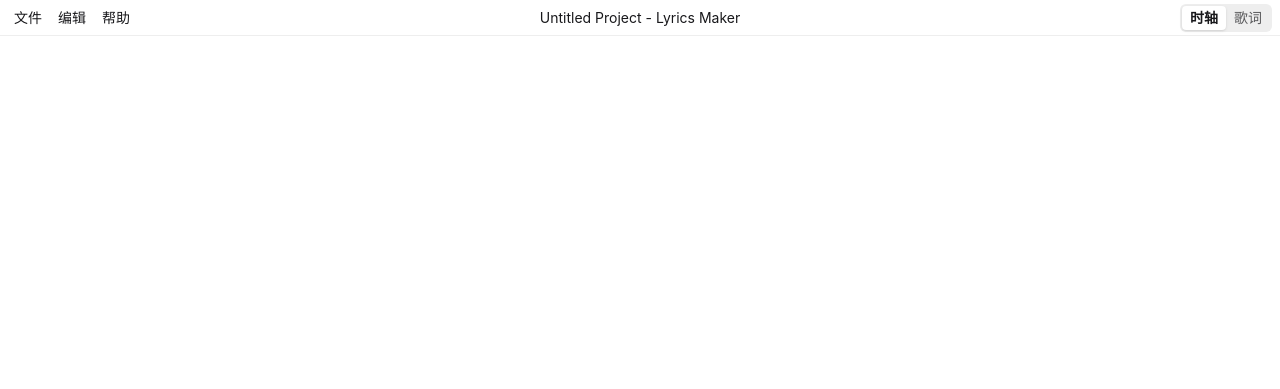
Test: menuBar › offers every supported lyric export target from a nested file menu
Click the button with test id "menu-trigger-file".
click(28, 18)  # box [8,6,48,30]
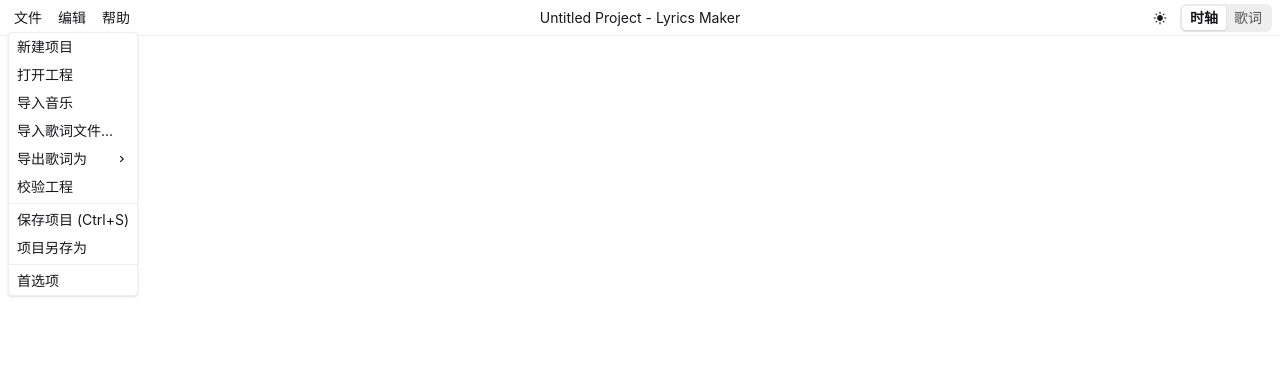
Hover over the menu item with test id "menu-export-lyrics".
mouse_move(73, 158)  # box [9,144,137,172]
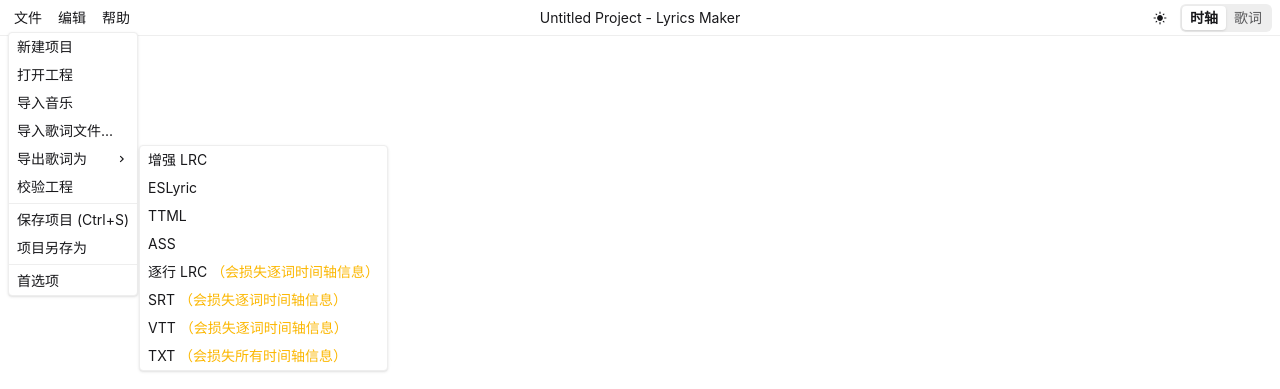
expect the menu with test id "menu-popup-export-lyrics" is shown: met, box [139,144,388,370]
expect the menu item with test id "menu-export-lyrics-txt" is shown: met, box [140,342,387,370]
expect the menu item with test id "menu-export-lyrics-lrc-line" is shown: met, box [140,258,387,286]
